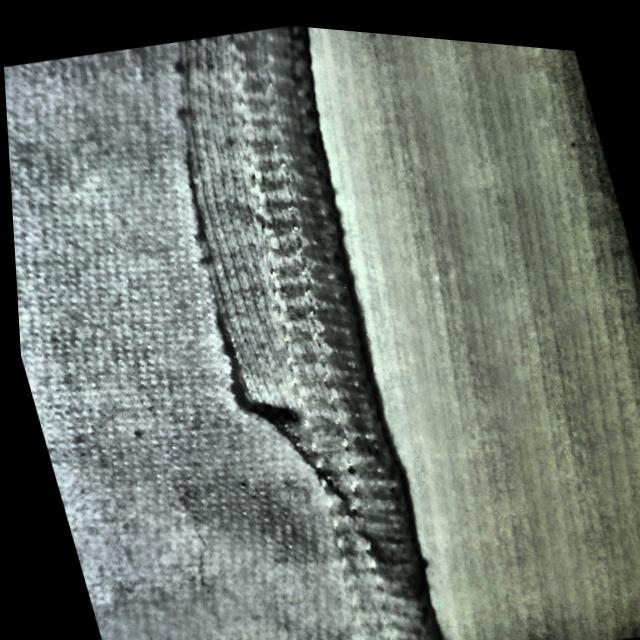seam: (109, 8, 424, 487)
